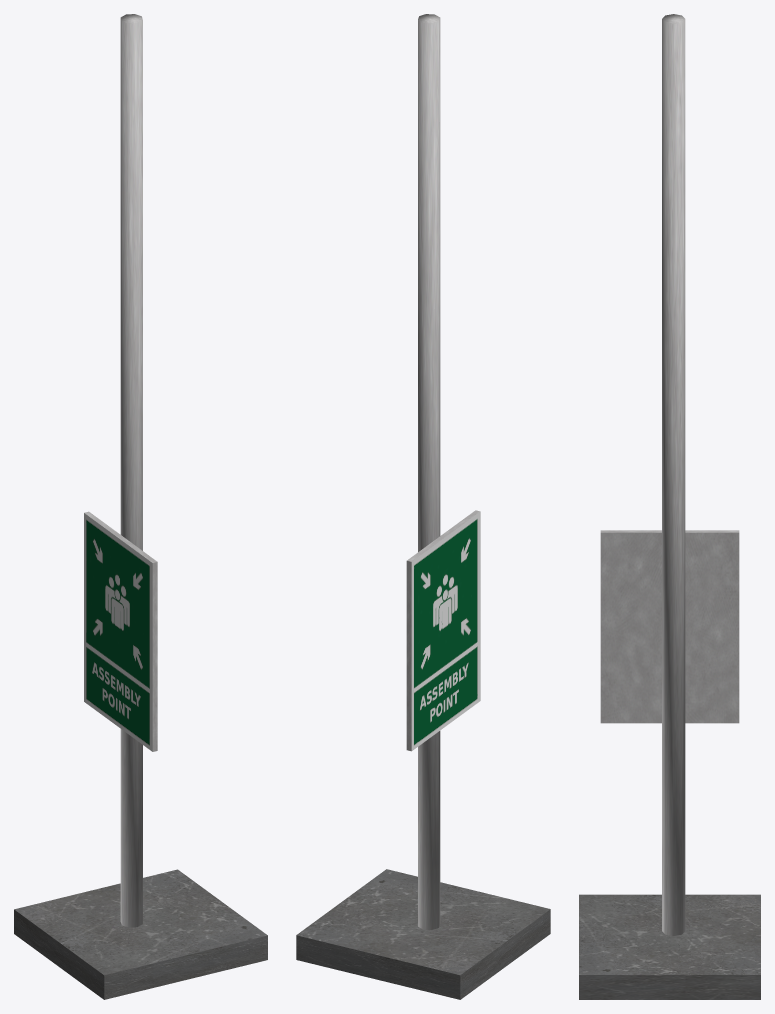
The model's file is Assemble point.fbx.
3 views of the same model, side by side, from view 1: azimuth 30°, elevation 25°; view 2: azimuth 150°, elevation 25°; view 3: azimuth 270°, elevation 25° (orthographic).
Parts seen in each view (by area): view 1: Board; view 2: Board; view 3: Board.
Boxes of the visible parts, x1=… form: Board: x1=14, y1=14, x2=267, y2=999; Board: x1=296, y1=14, x2=550, y2=999; Board: x1=579, y1=14, x2=760, y2=999.
Size of the model in its own units: 1122 by 6125 by 1070.
